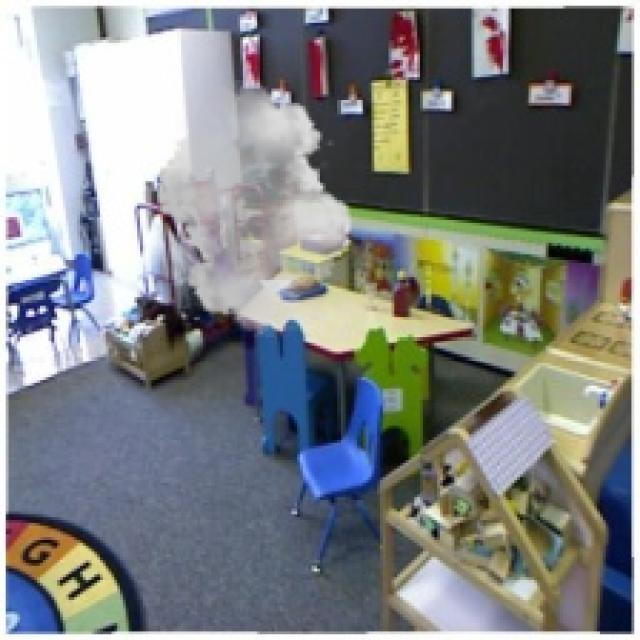smoke: (149, 80, 360, 337)
